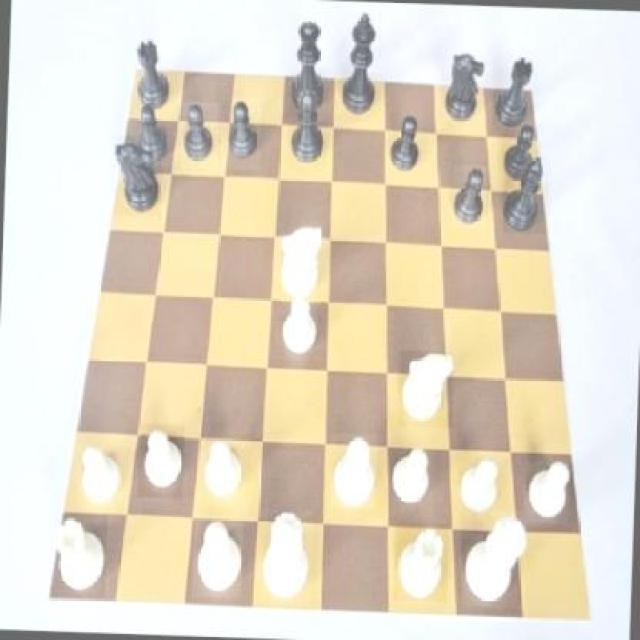bishop: (284, 84, 328, 170), (503, 154, 550, 234)
black-bishop: (336, 11, 382, 123)
black-king: (109, 135, 163, 218), (442, 45, 486, 129)
black-knight: (382, 106, 428, 183), (497, 123, 541, 191), (180, 102, 219, 169), (228, 97, 262, 170), (452, 165, 488, 228), (136, 100, 168, 163)
black-pawn: (288, 14, 328, 123)
black-queen: (492, 54, 540, 133), (134, 26, 177, 109)
black-rook: (192, 520, 243, 600), (329, 432, 377, 510)
white-bishop: (463, 509, 528, 608)
white-king: (272, 220, 330, 304), (395, 351, 453, 428)
white-knight: (197, 437, 249, 508), (388, 446, 437, 519), (137, 423, 184, 499), (454, 454, 503, 524), (523, 454, 571, 524), (77, 443, 124, 508), (278, 295, 321, 358)
white-pawn: (258, 510, 314, 606)
white-queen: (51, 514, 108, 600), (392, 526, 448, 602)
